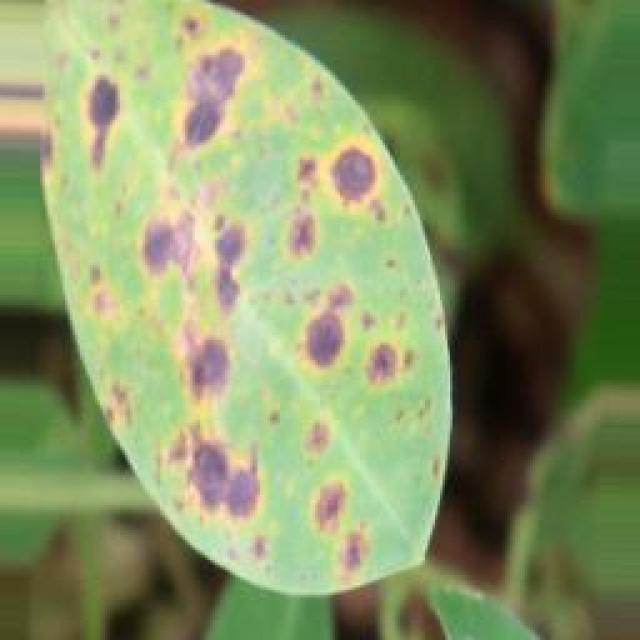Yellowish: (34, 1, 442, 604)
